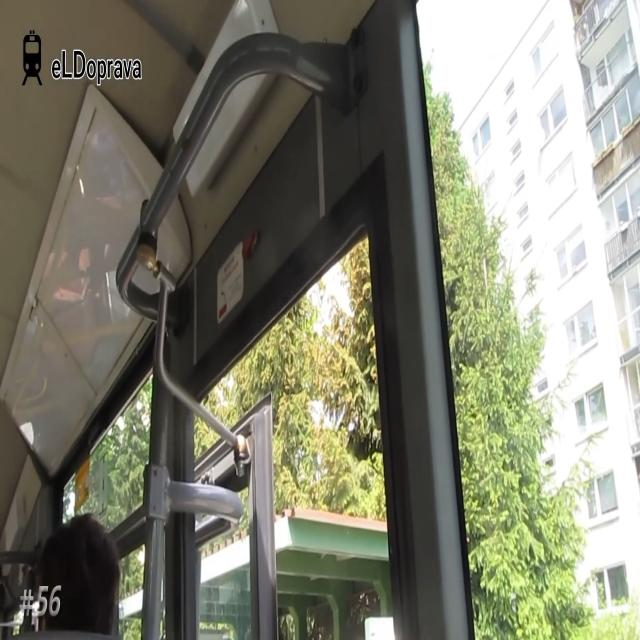bus-door: (186, 232, 387, 640)
